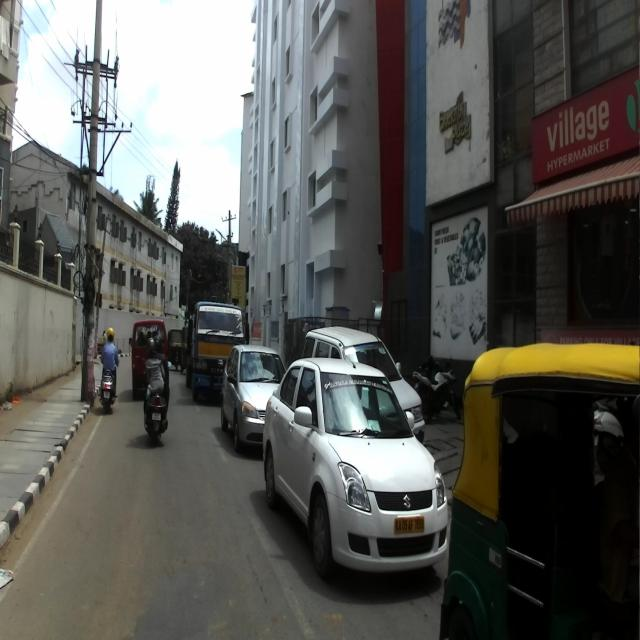Car_Maruti-Suzuki: (261, 359, 449, 584)
Car_TATA: (221, 342, 295, 460)
autorickshaw: (436, 344, 638, 638)
motorcycle: (412, 356, 463, 423), (412, 354, 443, 418)
scooter: (142, 366, 171, 446)
